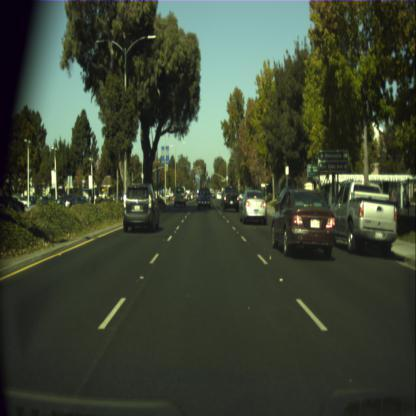Red: (206, 171, 208, 176)
off: (204, 166, 206, 172)
